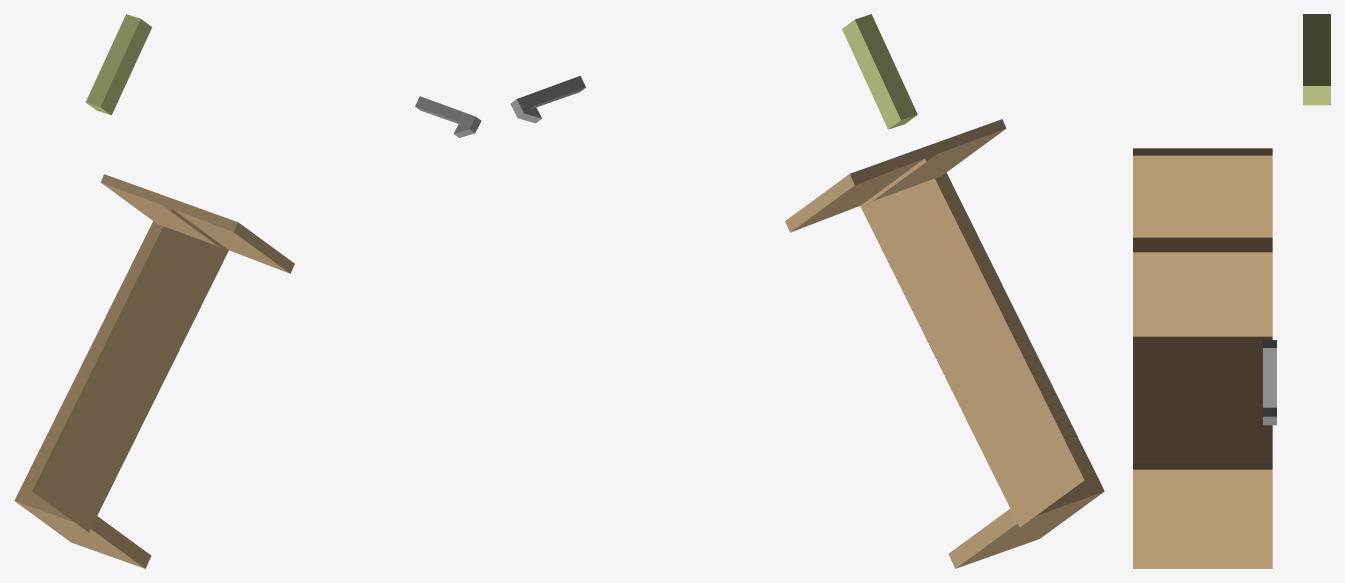
3 views of the same model, side by side, from view 1: azimuth 30°, elevation 25°; view 2: azimuth 150°, elevation 25°; view 3: azimuth 270°, elevation 25° (orthographic). The views are drawn at different scales.
Visible parts, largest first — view 1: 0_3_0_2_2_1_2; view 2: 0_3_0_2_2_1_2; view 3: 0_3_0_2_2_1_2.
Boxes of the visible parts, box(x1,y1,x2,y2) form: 0_3_0_2_2_1_2: box(14, 14, 481, 568); 0_3_0_2_2_1_2: box(510, 14, 1104, 568); 0_3_0_2_2_1_2: box(1133, 14, 1330, 568).
Bounding box in the file's own units: 141 × 140 × 42.5.
